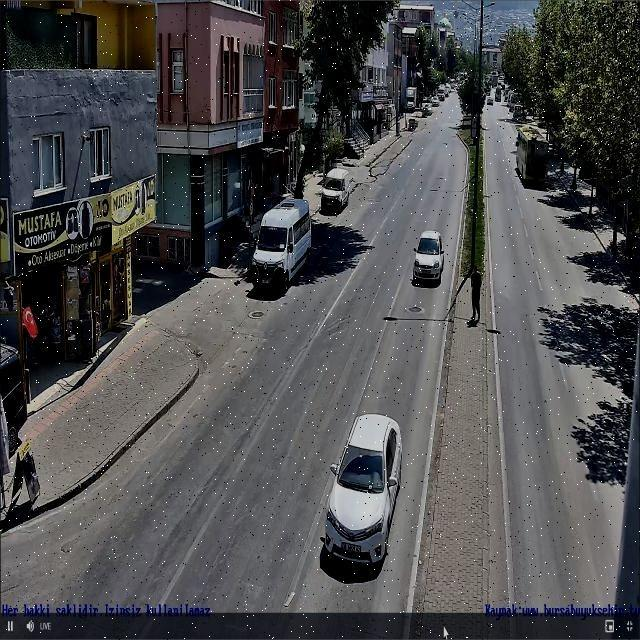Car: (322, 414, 402, 562), (412, 227, 444, 284)
Van: (252, 196, 310, 284), (317, 164, 349, 212)
